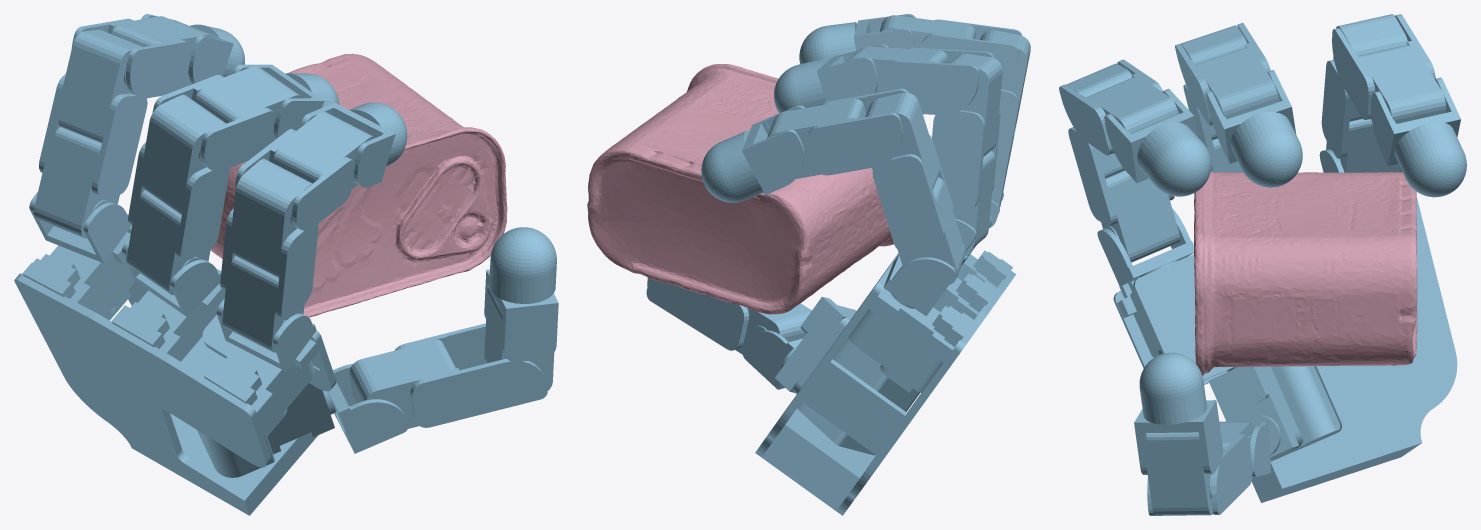
3 views of the same model, side by side, from view 1: azimuth 30°, elevation 25°; view 2: azimuth 150°, elevation 25°; view 3: azimuth 270°, elevation 25° (orthographic). The views are drawn at different scales.
Parts seen in each view (by area): view 1: world; view 2: world; view 3: world.
Boxes of the visible parts, x1,y1,x2,y2 form: world: (14, 14, 558, 515); world: (587, 14, 1030, 515); world: (1059, 14, 1466, 515).
Bounding box in the file's own units: 0.1778 × 0.1825 × 0.1524.
